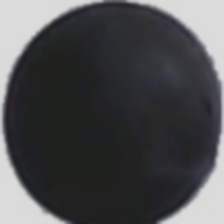grapes: (50, 27, 212, 197)
